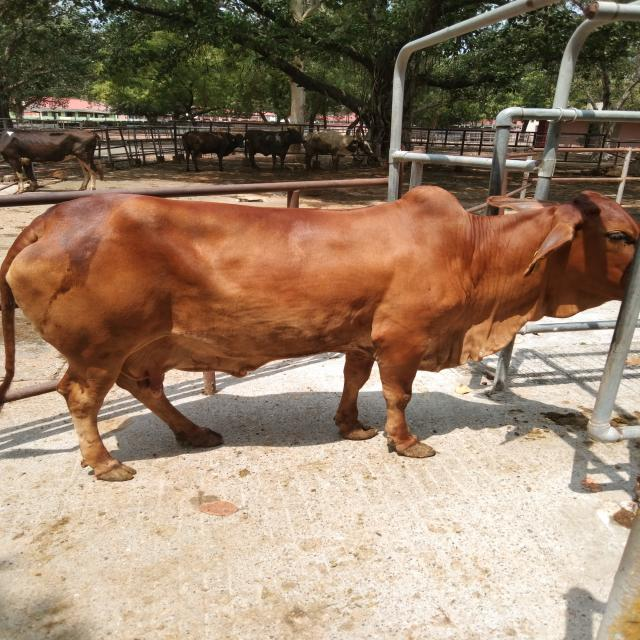1: (383, 185, 480, 203)
Hoof: (95, 464, 136, 482), (396, 441, 436, 458), (189, 427, 223, 447), (338, 424, 378, 440)
